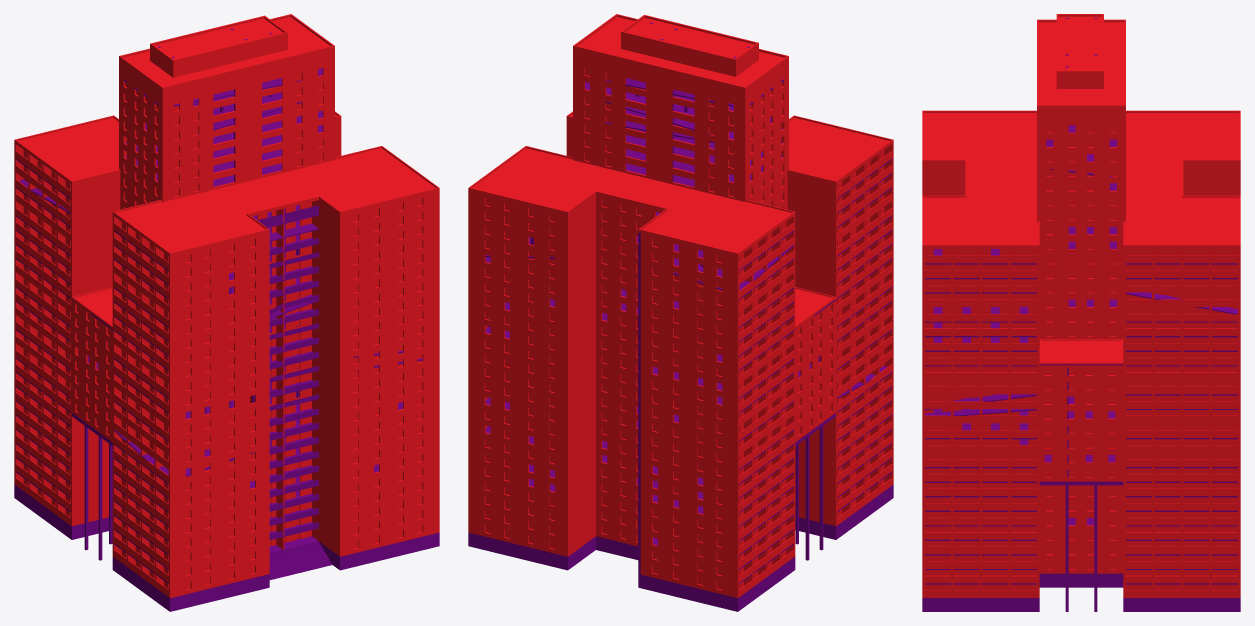
File: Building_02_2.FBX
The picture shows the model from 3 angles, left to right: view 1: azimuth 30°, elevation 25°; view 2: azimuth 150°, elevation 25°; view 3: azimuth 270°, elevation 25°; orthographic projection. The views are drawn at different scales.
Parts seen in each view (by area): view 1: Building_02_2; view 2: Building_02_2; view 3: Building_02_2.
Part boxes in pixels (box(x1,y1,x2,y2)): Building_02_2: box(14, 14, 439, 611); Building_02_2: box(468, 14, 893, 611); Building_02_2: box(922, 14, 1240, 611).
Size of the model in its own units: 89604 by 154541 by 89614.
